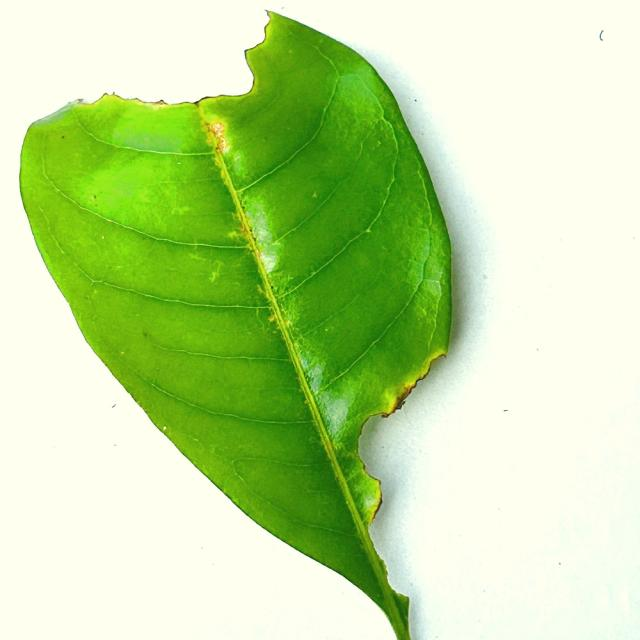Deficiency Leaf: (361, 371, 467, 600), (67, 44, 252, 103)
Lychee: (20, 12, 451, 639)
